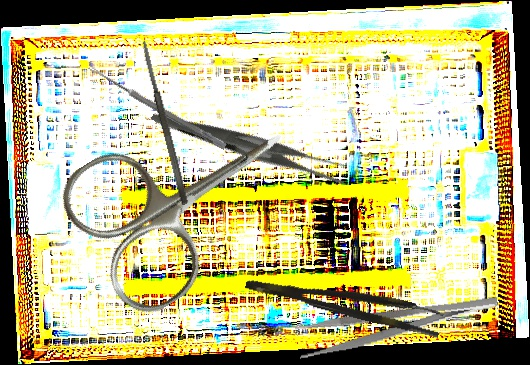Dressing Forceps: (150, 58, 353, 231), (294, 291, 502, 361)
Iris Scissors: (49, 68, 326, 326)
Spatula Surgical: (139, 39, 190, 206)
Surgical Spoon: (86, 64, 228, 150)
Tissue Forceps: (244, 262, 445, 339)
